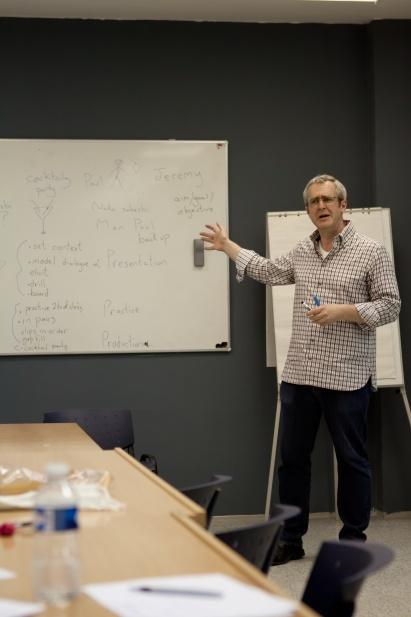Whiteboard: (0, 134, 232, 355)
